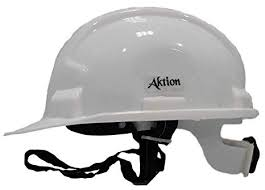Helmet: (22, 12, 251, 165)
